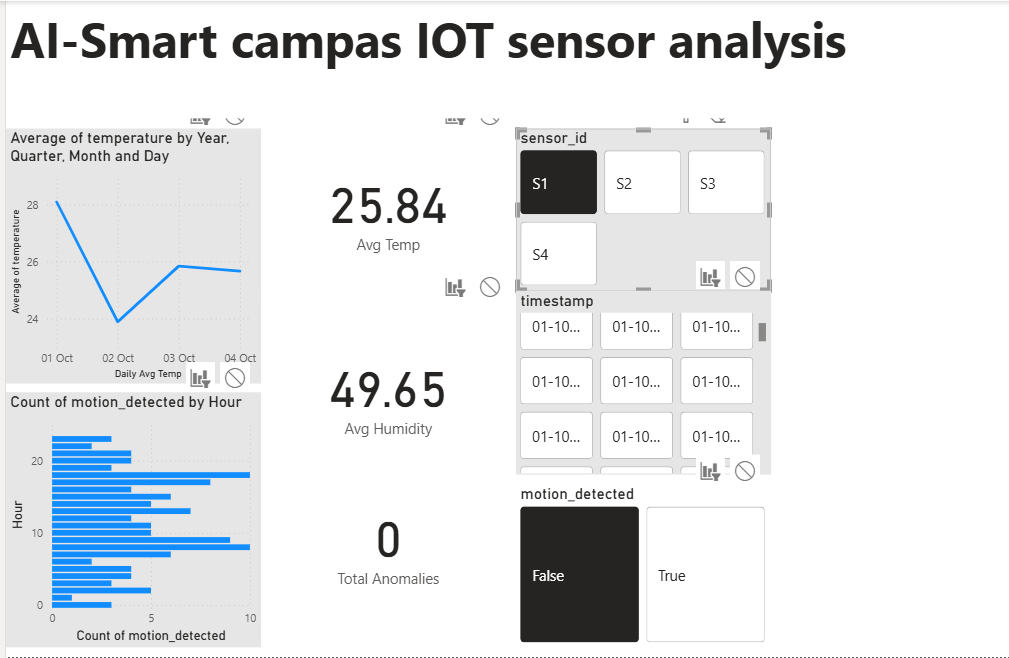

What the dashboard file says about the page in this screenshot:
{"tool":"powerbi","page":{"name":"Page 1","canvas":[1280,720],"ordinal":0},"visuals":[{"type":"lineChart","fields":{"Y":["Avg(sensor_data_cleaned.temperature)"],"Category":["sensor_data_cleaned.date.Variation.Date Hierarchy.Year","sensor_data_cleaned.date.Variation.Date Hierarchy.Quarter","sensor_data_cleaned.date.Variation.Date Hierarchy.Month","sensor_data_cleaned.date.Variation.Date Hierarchy.Day"]},"box":[0,140,279.9,279.9],"z":0},{"type":"barChart","fields":{"Y":["CountNonNull(sensor_data_cleaned.motion_detected)"],"Category":["sensor_data_cleaned.Hour"]},"box":[0,429.5,279.9,279.9],"z":1000},{"type":"card","fields":{"Values":["sensor_data_cleaned.Avg Temp"]},"box":[279.9,140,279.9,178.4],"z":2000},{"type":"card","fields":{"Values":["sensor_data_cleaned.Total Anomalies"]},"box":[279.9,481.6,279.9,227.8],"z":3000},{"type":"card","fields":{"Values":["sensor_data_cleaned.Avg Humidity"]},"box":[279.9,329.3,279.9,201.7],"z":4000},{"type":"advancedSlicerVisual","fields":{"Values":["sensor_data_cleaned.sensor_id"]},"box":[559.9,140,279.9,178.4],"z":5000},{"type":"advancedSlicerVisual","fields":{"Values":["sensor_data_cleaned.timestamp"]},"box":[559.9,318.4,279.9,201.7],"z":6000},{"type":"advancedSlicerVisual","fields":{"Values":["sensor_data_cleaned.motion_detected"]},"box":[559.9,531,279.9,178.4],"z":7000},{"type":"textbox","box":[0,0,1280.3,129],"z":8000}]}

Visuals, with their boxes on the page's 1280x720 design canvas (x1, y1, x2, y2). These are canvas units, not pixel positions in the 1009x658 screenshot, which may show the page scaled, cropped or inside an application window:
lineChart - Avg(sensor_data_cleaned.temperature) x sensor_data_cleaned.date.Variation.Date Hierarchy.Year: x1=0 y1=140 x2=280 y2=420
barChart - CountNonNull(sensor_data_cleaned.motion_detected) x sensor_data_cleaned.Hour: x1=0 y1=430 x2=280 y2=709
card - sensor_data_cleaned.Avg Temp: x1=280 y1=140 x2=560 y2=318
card - sensor_data_cleaned.Total Anomalies: x1=280 y1=482 x2=560 y2=709
card - sensor_data_cleaned.Avg Humidity: x1=280 y1=329 x2=560 y2=531
advancedSlicerVisual - sensor_data_cleaned.sensor_id: x1=560 y1=140 x2=840 y2=318
advancedSlicerVisual - sensor_data_cleaned.timestamp: x1=560 y1=318 x2=840 y2=520
advancedSlicerVisual - sensor_data_cleaned.motion_detected: x1=560 y1=531 x2=840 y2=709
textbox: x1=0 y1=0 x2=1280 y2=129
